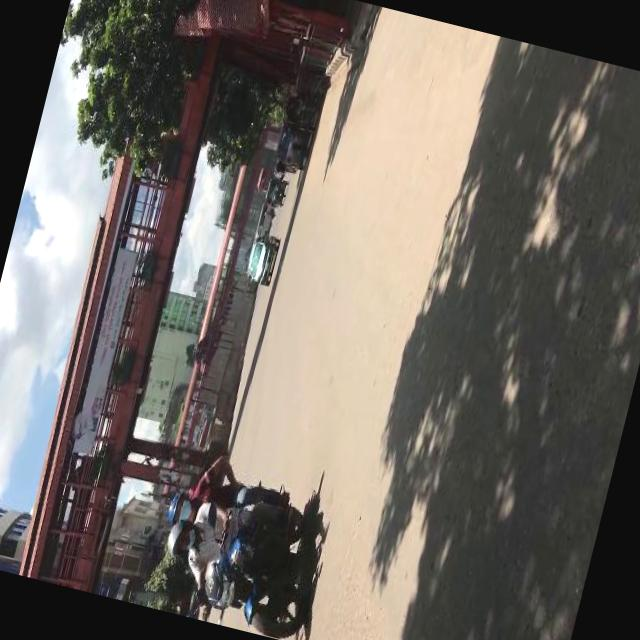car: (240, 232, 280, 289)
motorcycle: (141, 450, 342, 640), (270, 125, 312, 173), (262, 175, 289, 208)
